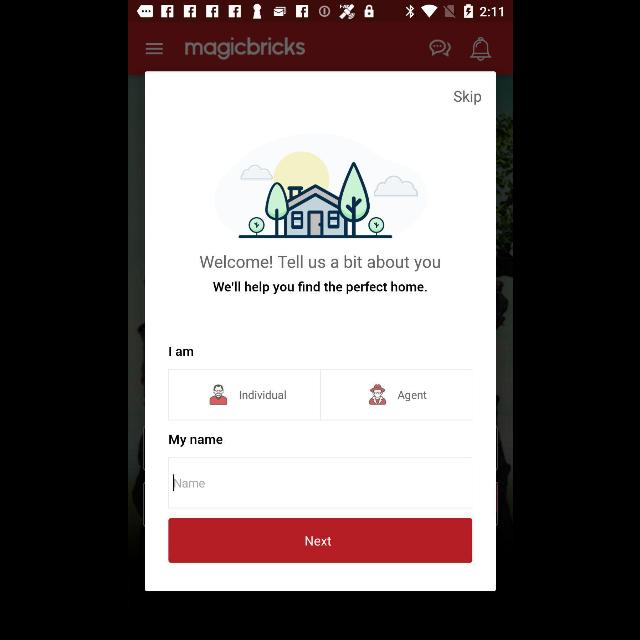icon: (469, 37, 491, 61), (429, 40, 451, 58), (144, 43, 162, 55)
image: (216, 134, 427, 238)
input: (168, 457, 472, 509)
panel: (144, 71, 496, 591)
text: (199, 255, 439, 272), (184, 38, 304, 61), (212, 282, 426, 294), (168, 435, 222, 447), (454, 91, 481, 105), (173, 479, 204, 487), (170, 348, 192, 357)
textbutton: (168, 518, 472, 562), (168, 369, 320, 421), (321, 369, 472, 421)
uppertaskbar: (128, 1, 512, 23)
